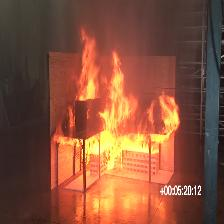fire: (52, 50, 180, 171), (76, 28, 101, 101)
